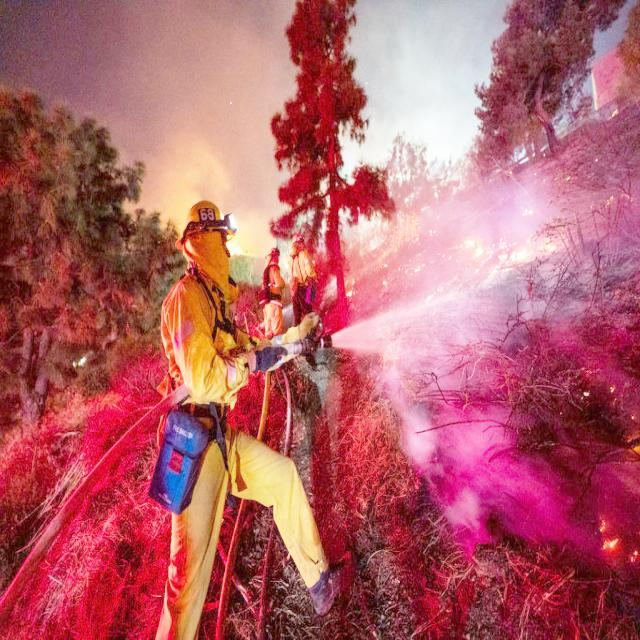api: (491, 245, 537, 270), (463, 236, 489, 258), (344, 285, 357, 305)
asap: (126, 126, 276, 263)
